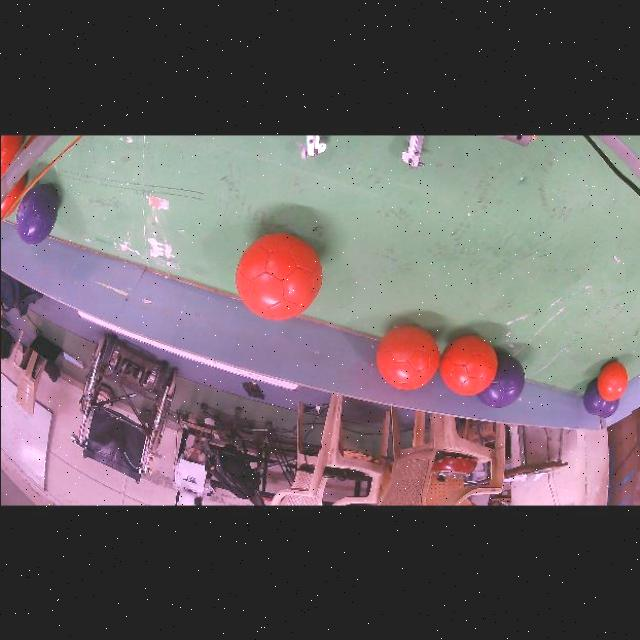P: (476, 354, 524, 408), (15, 184, 58, 244), (582, 379, 619, 418)
R: (235, 234, 321, 320), (376, 325, 439, 390), (439, 334, 497, 395), (596, 361, 627, 401)
